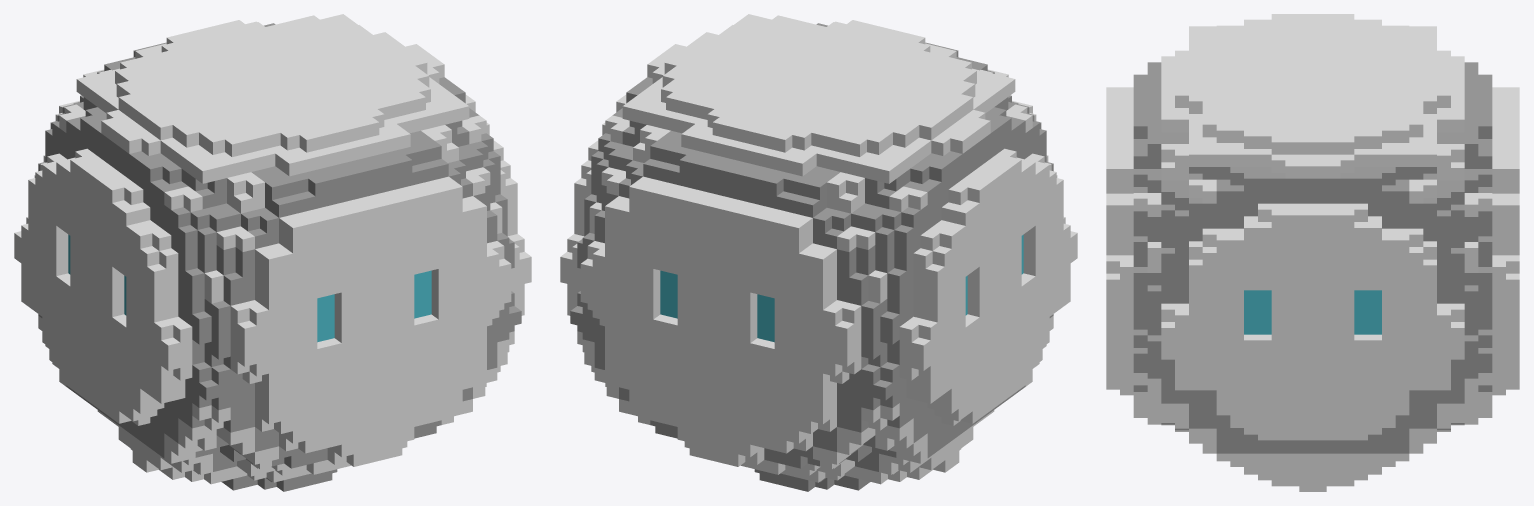
Rendered from Cloud.fbx.
The picture shows the model from 3 angles, left to right: view 1: azimuth 30°, elevation 25°; view 2: azimuth 150°, elevation 25°; view 3: azimuth 270°, elevation 25°; orthographic projection.
Visible parts, largest first — view 1: ObjObject; view 2: ObjObject; view 3: ObjObject.
Part boxes in pixels (x1,y1,x2,y2): ObjObject: [14, 14, 531, 491]; ObjObject: [560, 14, 1077, 491]; ObjObject: [1106, 14, 1519, 491].
Bounding box in the file's own units: 300 × 300 × 300.
